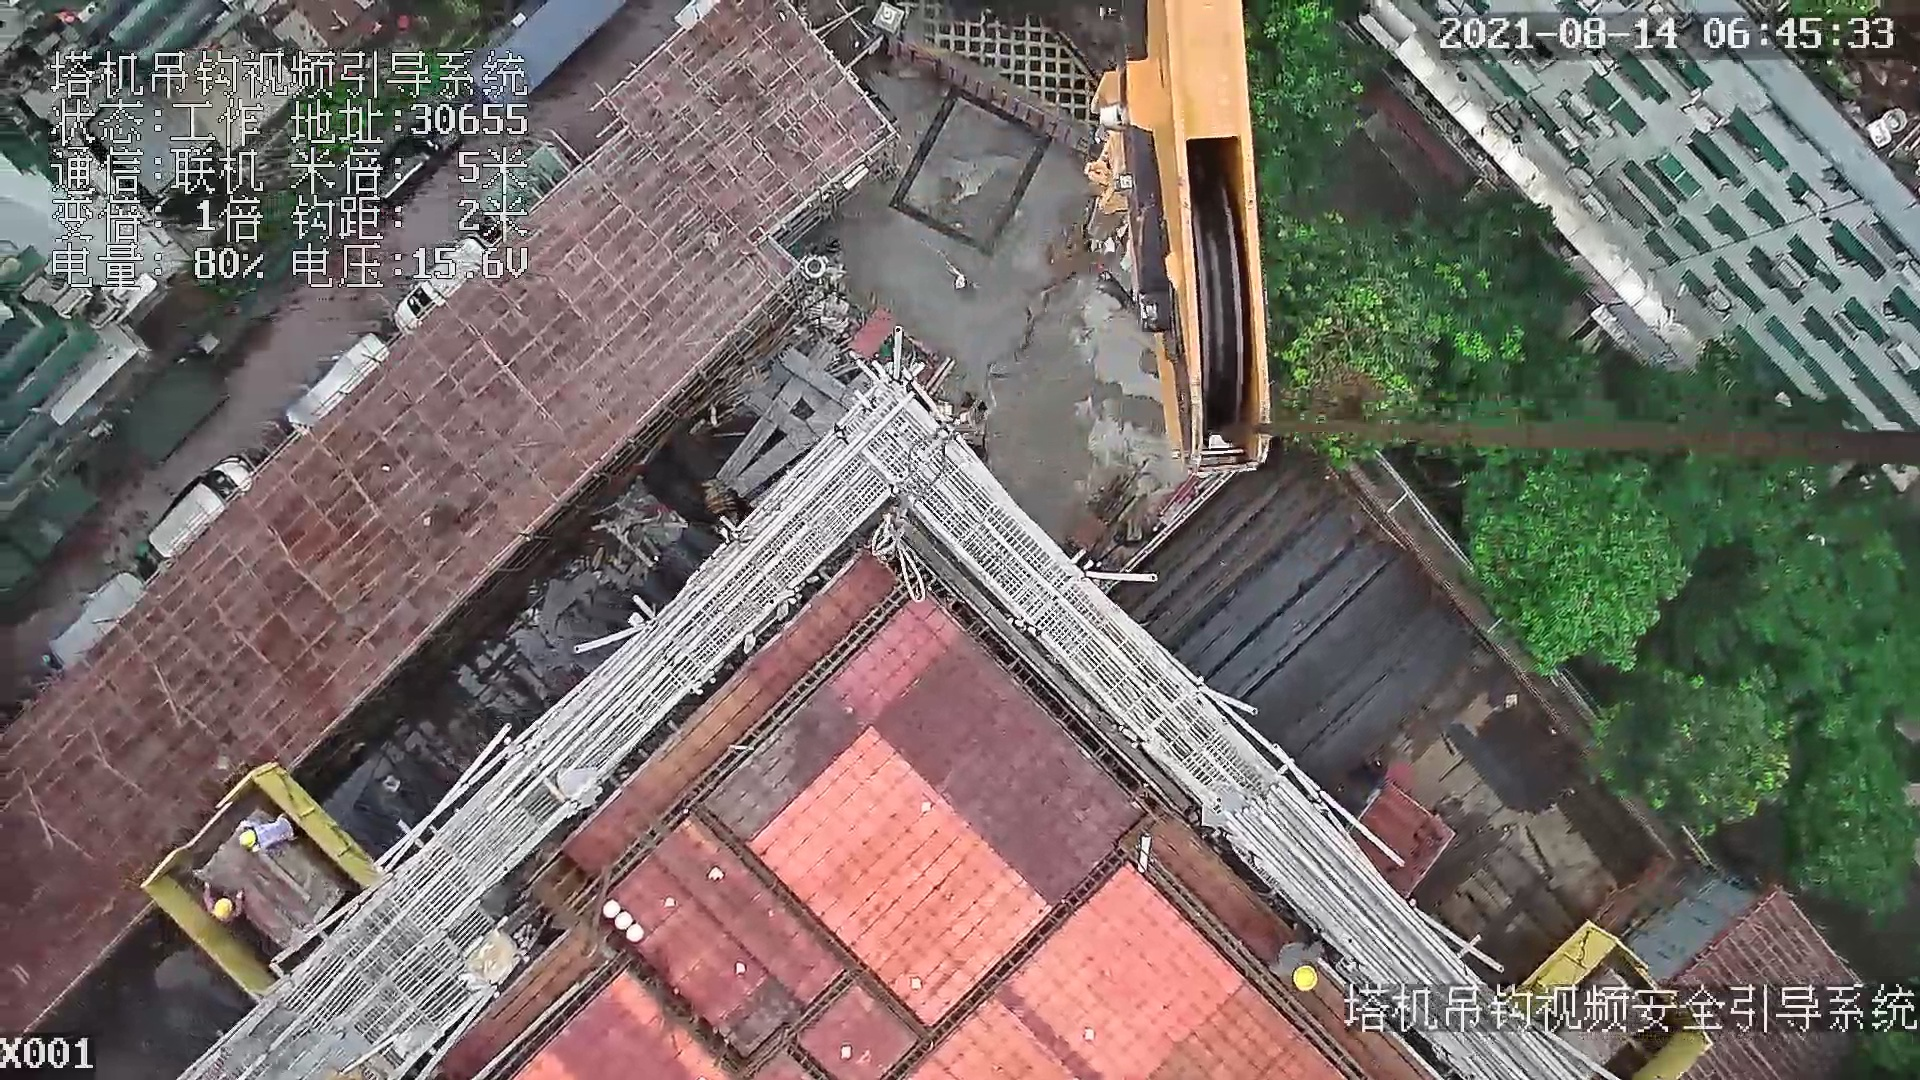helmet: (1293, 963, 1319, 993), (214, 898, 237, 919), (237, 830, 259, 839)
hook: (1068, 1, 1276, 478)
person: (1272, 931, 1328, 999), (233, 817, 297, 858), (201, 876, 250, 923)
